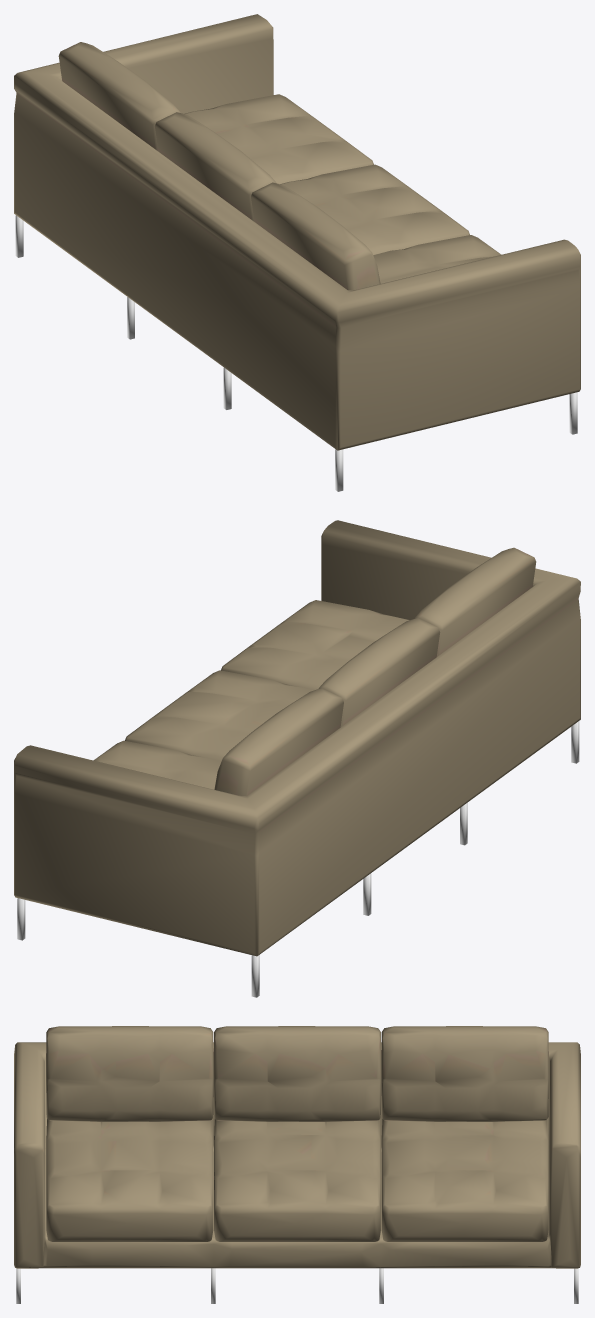
The model's file is sofa.glb.
3 renders of one model, top to bottom at view 1: azimuth 30°, elevation 25°; view 2: azimuth 150°, elevation 25°; view 3: azimuth 270°, elevation 25°, orthographic. The views are drawn at different scales.
Visible parts, largest first — view 1: Sofa; view 2: Sofa; view 3: Sofa.
Part boxes in pixels (<box>): Sofa: <box>14,14,580,491</box>; Sofa: <box>14,520,580,997</box>; Sofa: <box>14,1026,580,1303</box>.
Bounding box in the file's own units: 0.9615 × 0.7942 × 2.13.
Materials: 2 (1 with a texture image).
